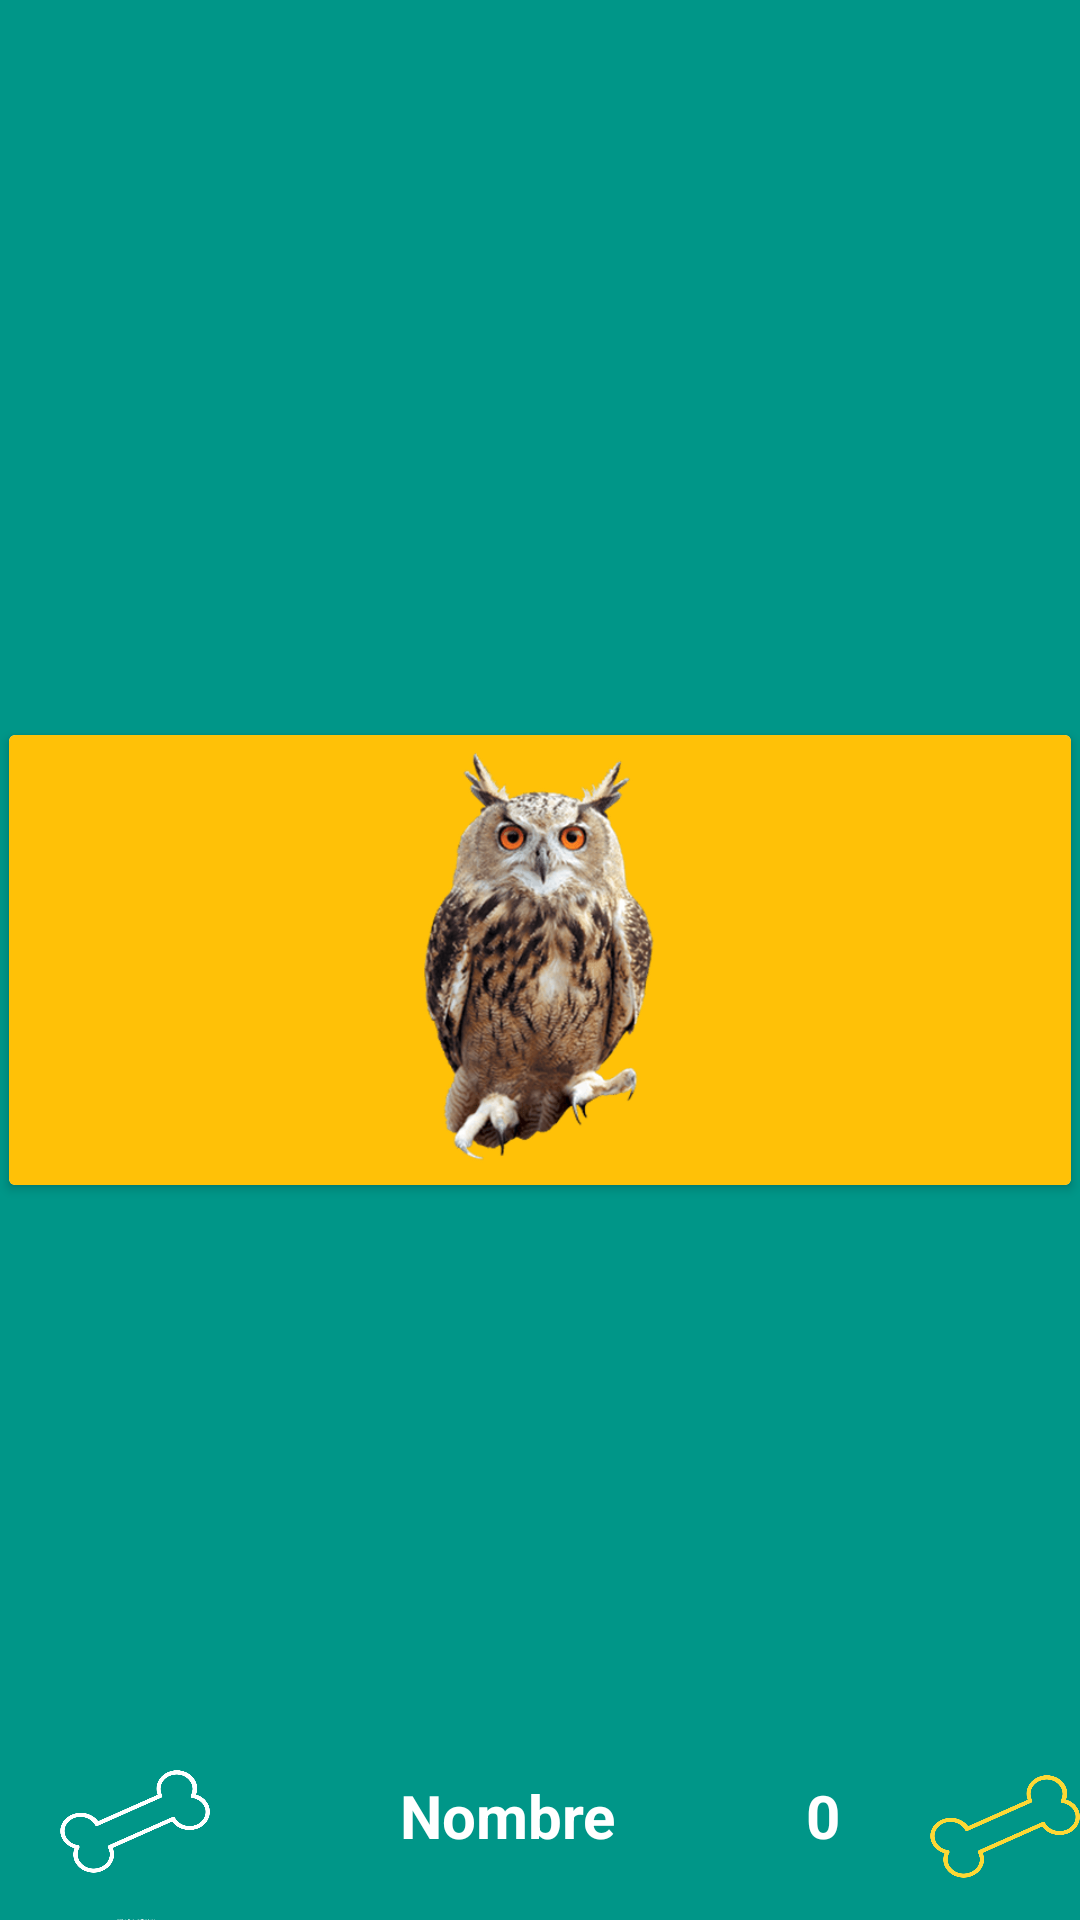

Icons on this 1080×1920 Android screen, each with its box as {"x1": x1, "y1": y1, "x2": x2, "y2": y2}:
hueso: {"x1": 60, "y1": 1770, "x2": 210, "y2": 1920}, {"x1": 930, "y1": 1775, "x2": 1080, "y2": 1878}
